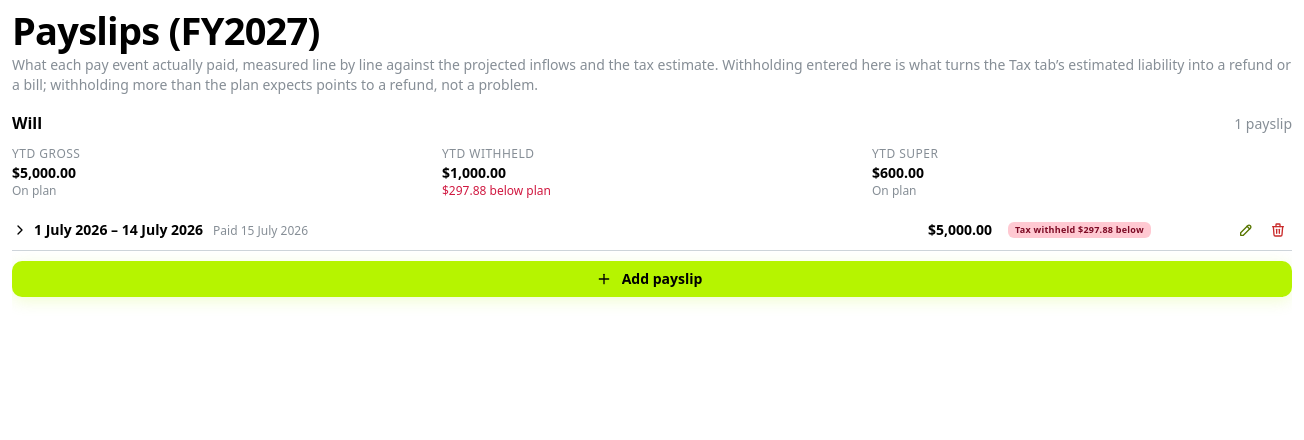
Test: PayslipsScreen › heads a wide row with the same period, gross, pill, and toggle
Step 1. Click the button "1 July 2026 – 14 July 2026" → (119, 230), box [12,220,1216,240]
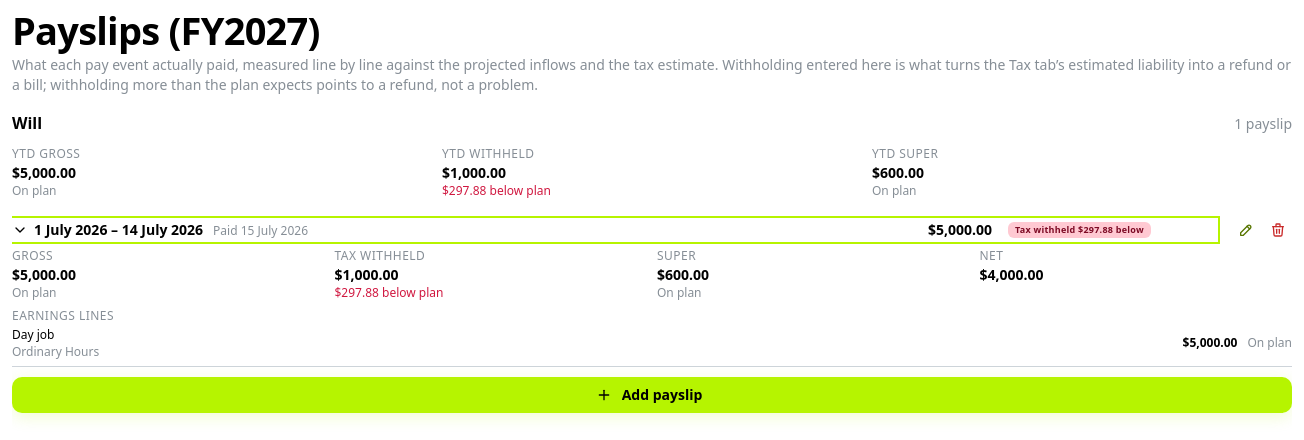
Now the button "1 July 2026 – 14 July 2026" is expanded, box [12,220,1216,240]
Now the text "Net" is shown, box [980,248,1003,264]
